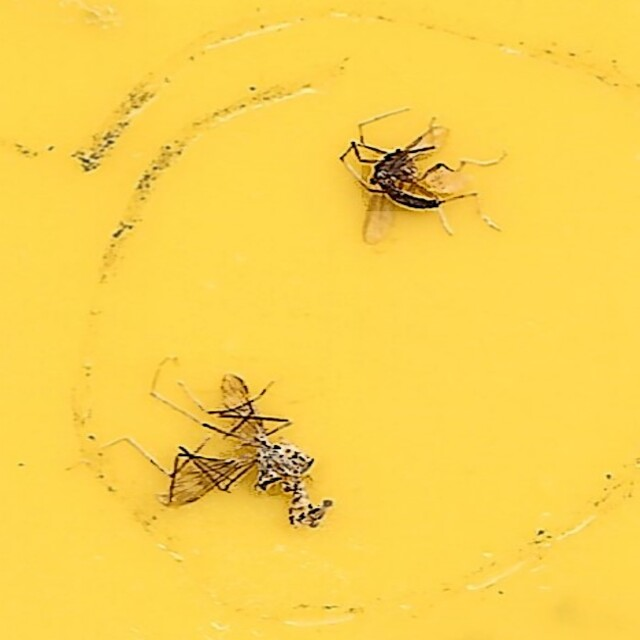Nematocera: (137, 355, 343, 538), (347, 102, 503, 244)
